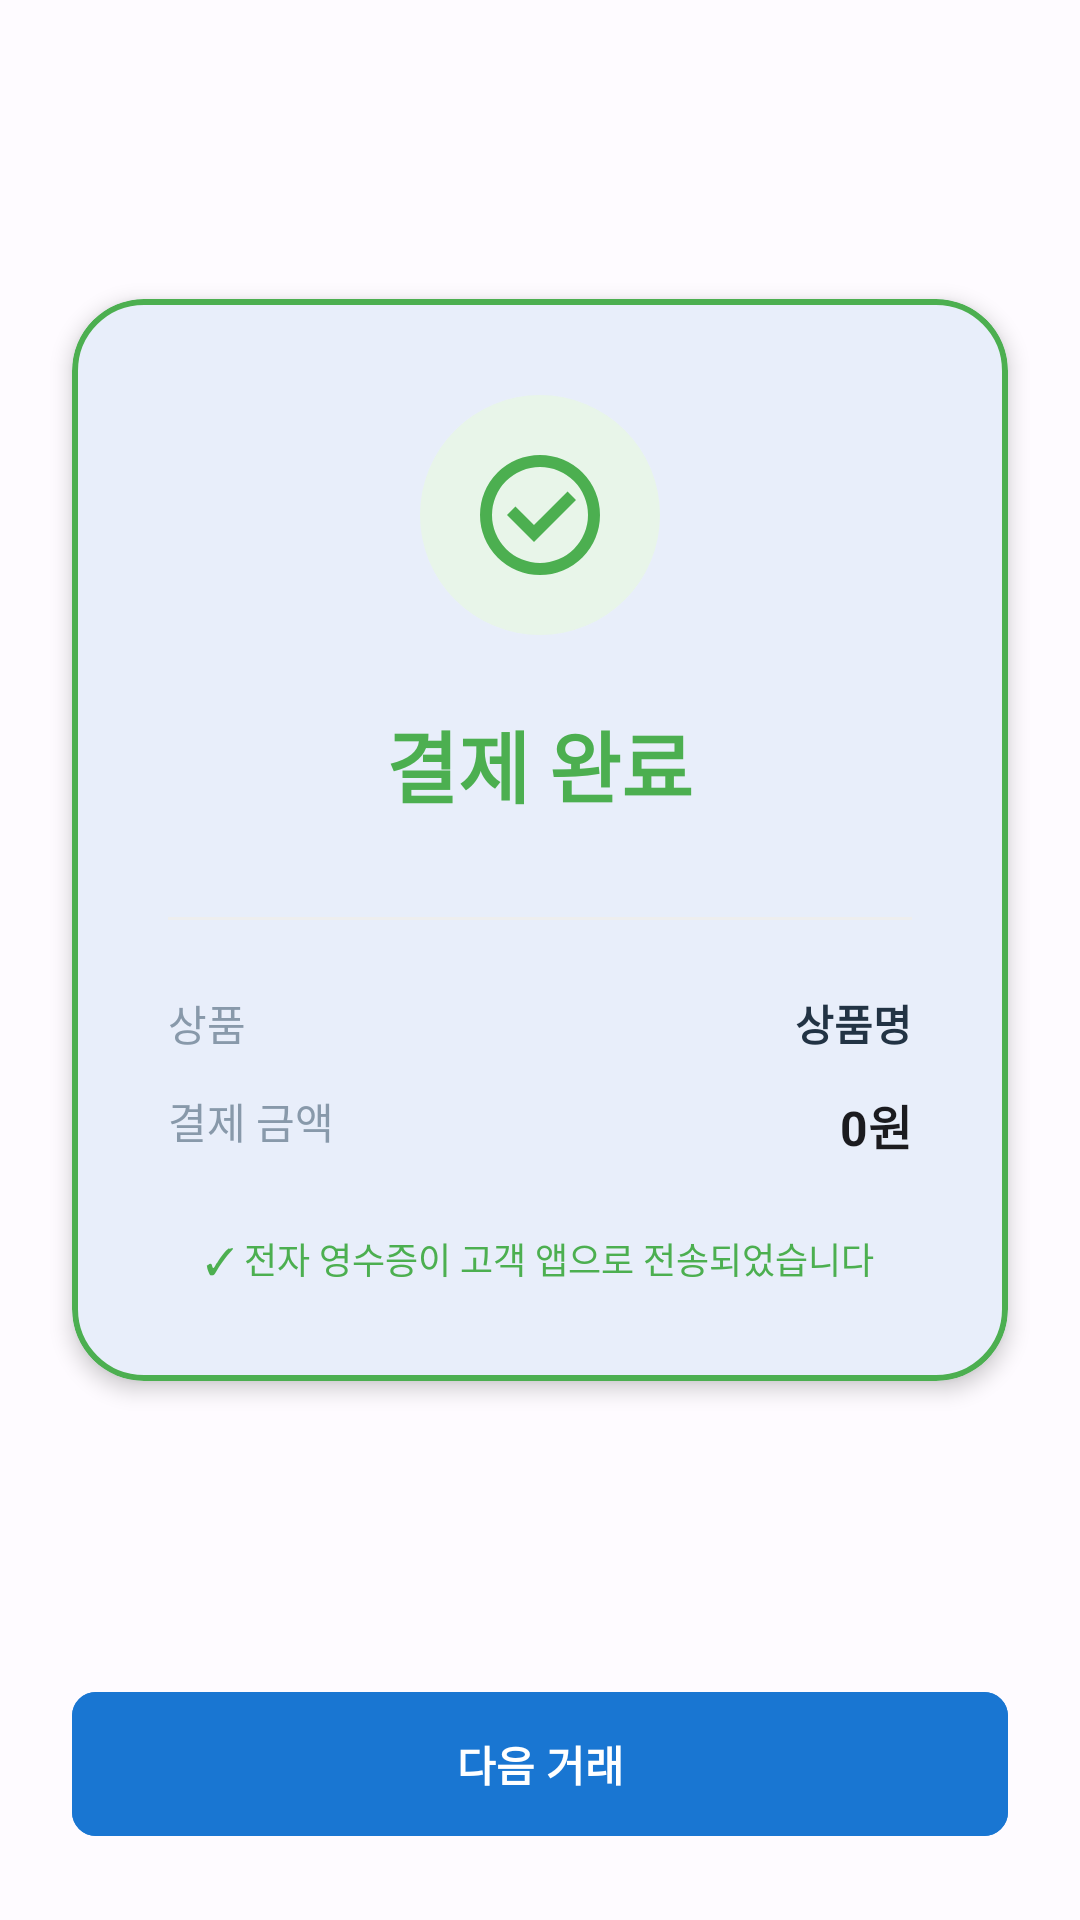

Icons on this 1080*1920 Android screen, each with its box as detection(x1, y1, x2, y2):
check circle: detection(480, 455, 600, 575)
